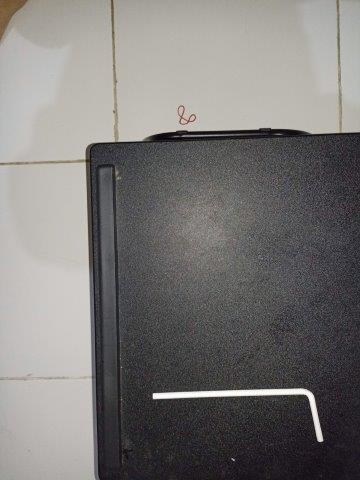karet: (176, 104, 197, 126)
sedotan: (153, 388, 323, 445)
